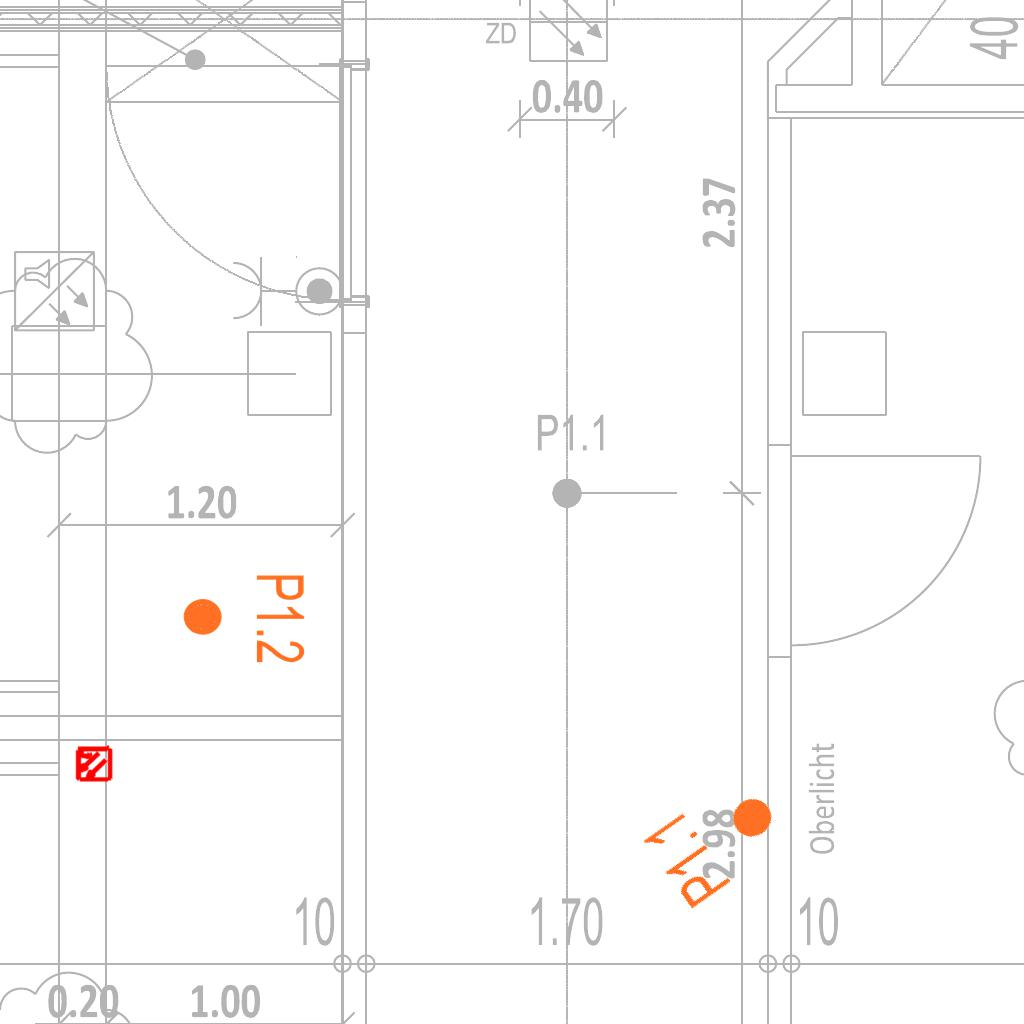Downlight_LED_Einbauleuchten_Flur: (637, 764, 796, 914), (180, 572, 308, 665)
OT_Multisensormelder_(Kombination_RMO_WMD): (64, 735, 122, 793)
